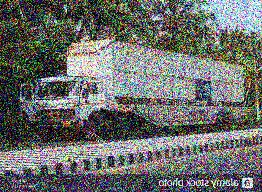truck: (20, 39, 245, 140)
